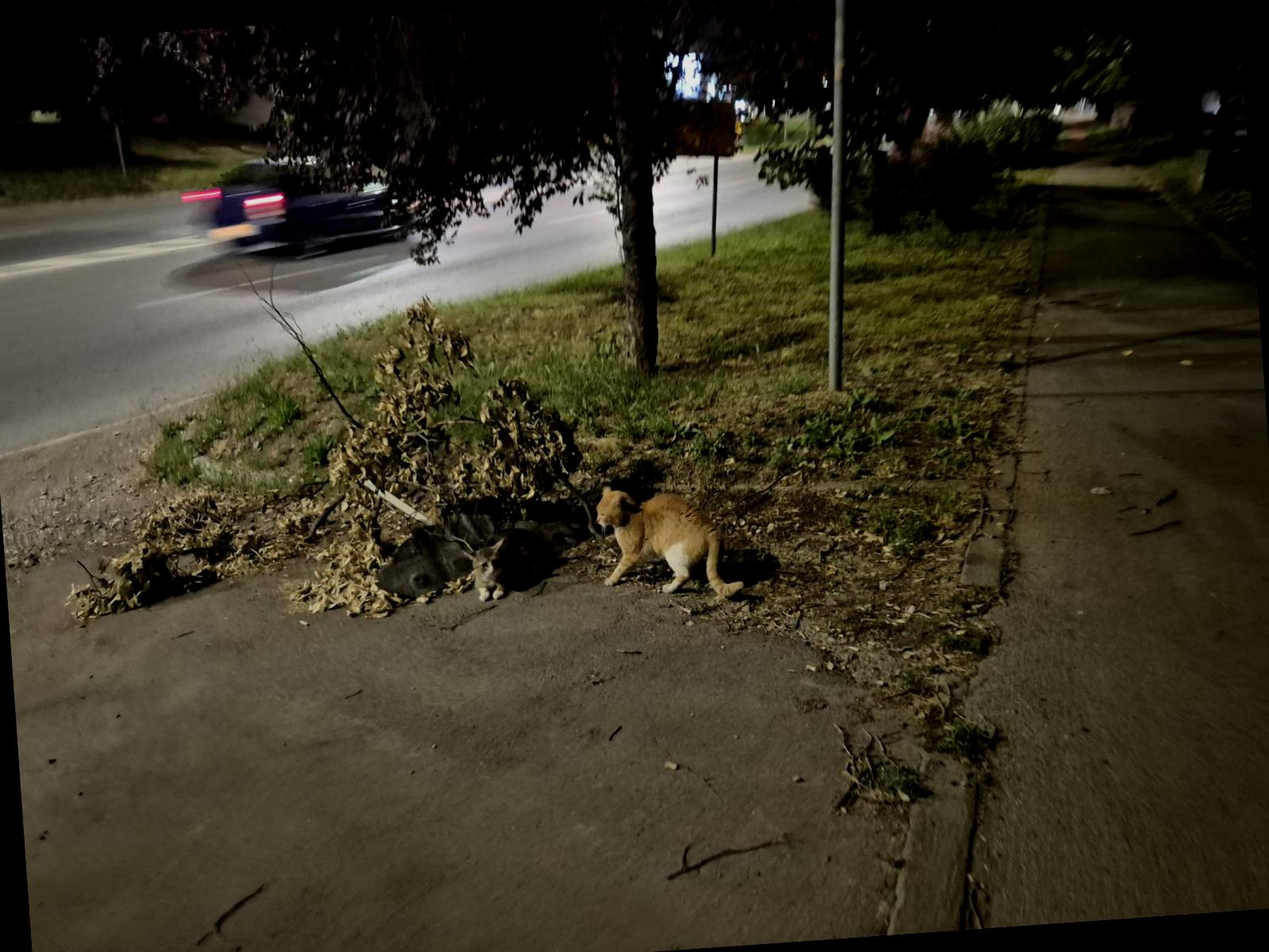macka: (595, 476, 744, 606), (461, 526, 557, 603)
